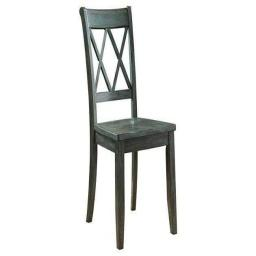Chair: (78, 8, 179, 248)
